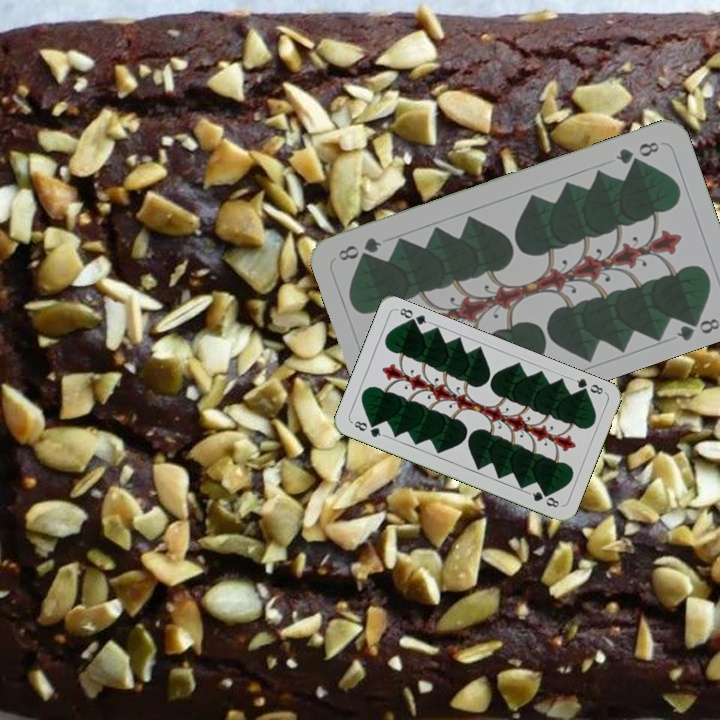G8: (611, 137, 662, 167), (348, 416, 387, 440), (568, 374, 607, 398)
